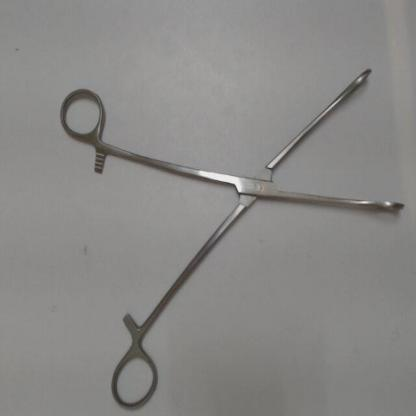Sponge Forceps: (52, 58, 409, 413)
